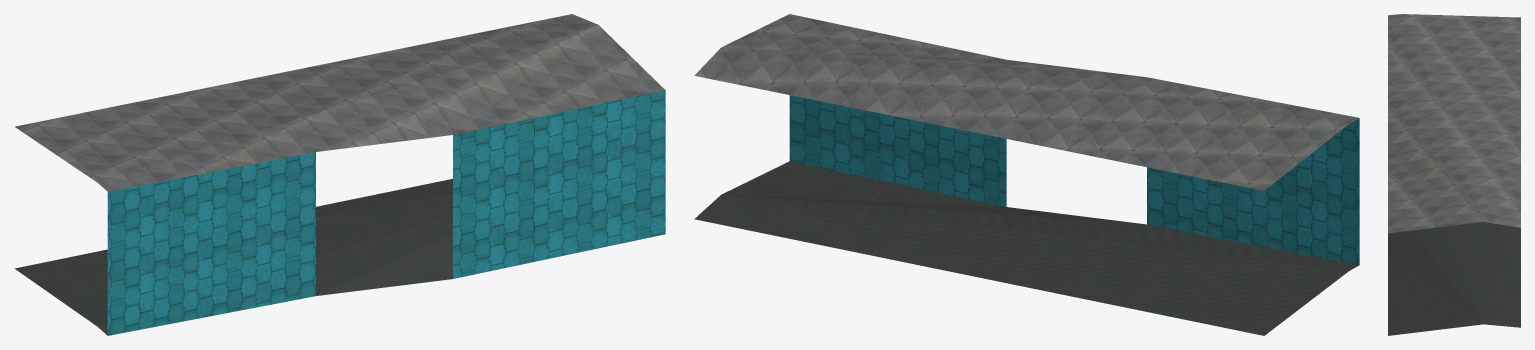
The model's file is east_long_newpart1.FBX.
The picture shows the model from 3 angles, left to right: view 1: azimuth 30°, elevation 25°; view 2: azimuth 150°, elevation 25°; view 3: azimuth 270°, elevation 25°; orthographic projection. The views are drawn at different scales.
Visible parts, largest first — view 1: Object007; view 2: Object007; view 3: Object007.
Part boxes in pixels (<box>): Object007: <box>14,14,665,335</box>; Object007: <box>694,14,1359,335</box>; Object007: <box>1388,14,1520,335</box>.
Bounding box in the file's own units: 305 × 94.17 × 88.44.
